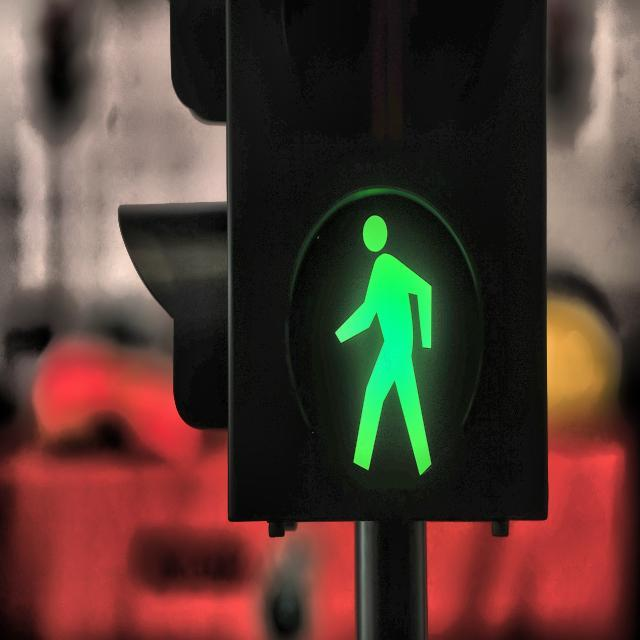green_light: (328, 207, 438, 483)
